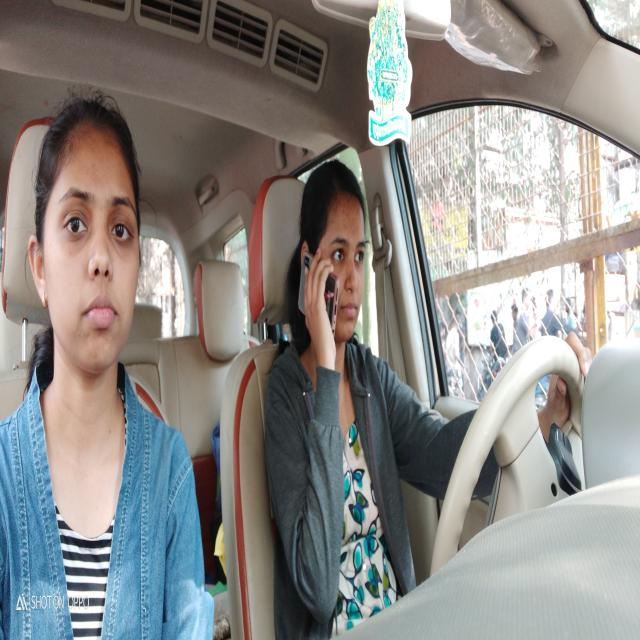mobile: (298, 237, 342, 341)
person: (24, 68, 155, 422), (294, 141, 374, 350)
